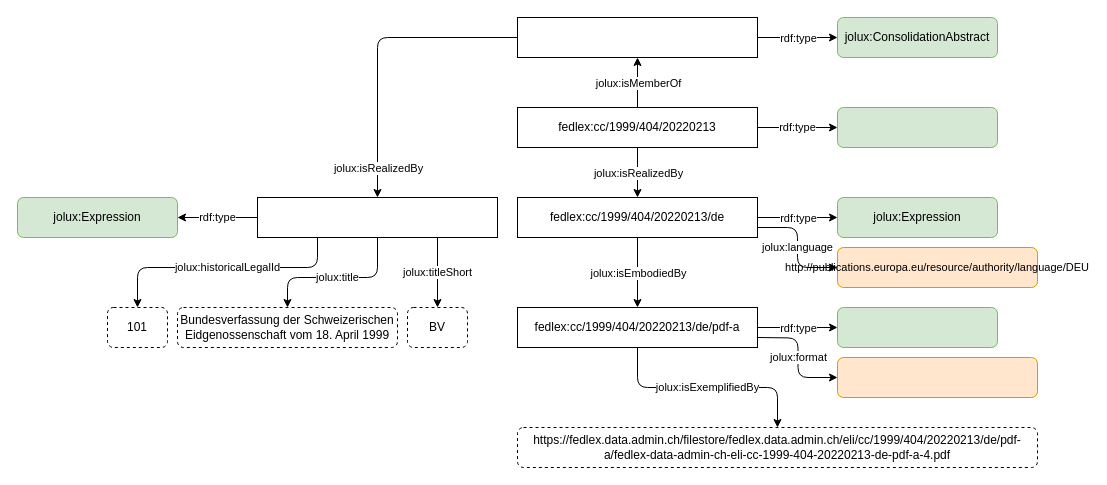
Some shapes in this 1107 by 485 pixel diagram are drawn without their labels. The centre of each missing label's shape, as x and y in pixels:
"fedlex:cc/1999/404" goes at point (637, 37).
"fedlex:cc/1999/404/de" goes at point (377, 217).
"http://publications.europa.eu/resource/authority/file-type/PDF" goes at point (937, 377).
"jolux:Consolidation" goes at point (917, 127).
"jolux:Manifestation" goes at point (917, 327).
